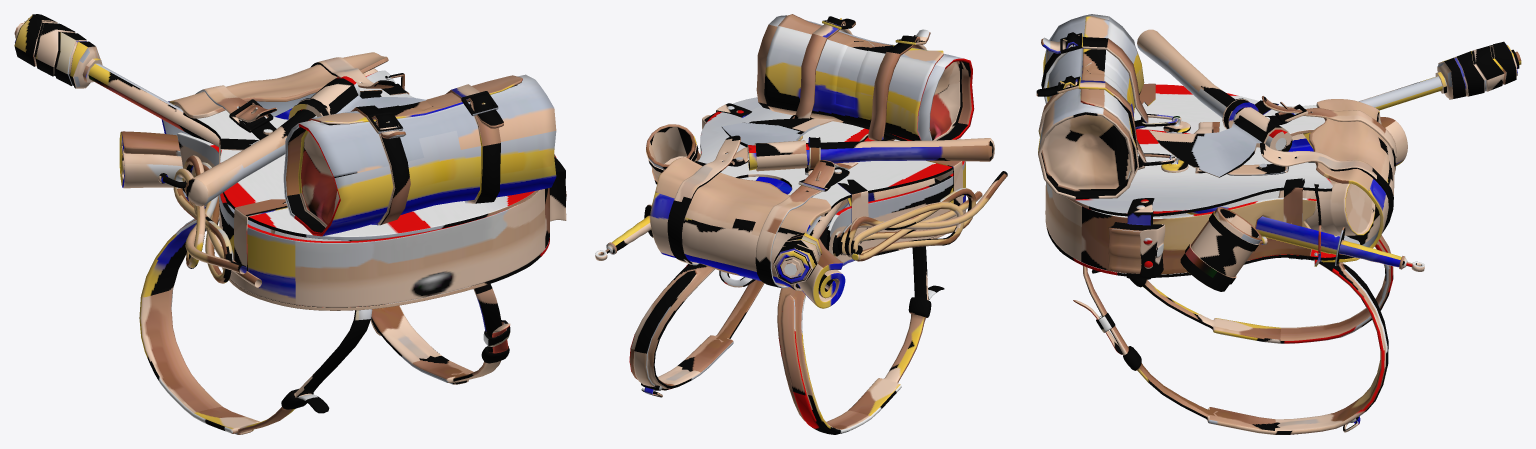
The model's file is backpack.fbx.
3 views of the same model, side by side, from view 1: azimuth 30°, elevation 25°; view 2: azimuth 150°, elevation 25°; view 3: azimuth 270°, elevation 25° (orthographic). The views are drawn at different scales.
Parts seen in each view (by area): view 1: Backpack; view 2: Backpack; view 3: Backpack.
Boxes of the visible parts, <box> form: Backpack: <box>14,14,566,434</box>; Backpack: <box>595,14,1007,434</box>; Backpack: <box>1036,14,1521,434</box>.
Bounding box in the file's own units: 1396 × 1300 × 1737.
